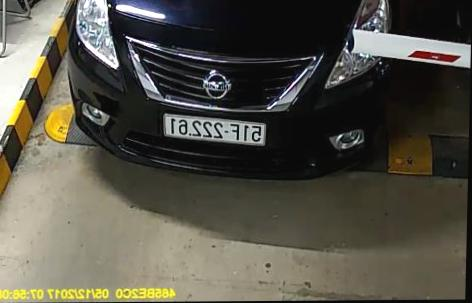License_Plate: (154, 111, 270, 148)
